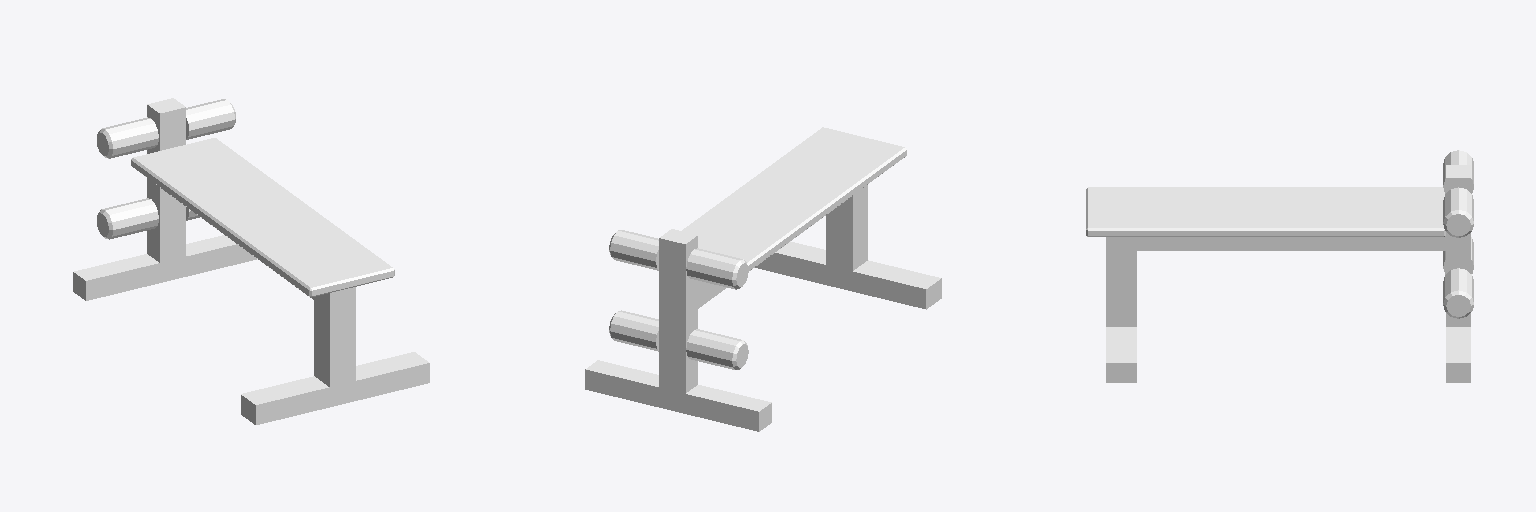
Rendered from bench2.obj.
3 renders of one model, left to right at view 1: azimuth 30°, elevation 25°; view 2: azimuth 150°, elevation 25°; view 3: azimuth 270°, elevation 25°, orthographic.
Parts seen in each view (by area): view 1: bench1.001; view 2: bench1.001; view 3: bench1.001.
Part boxes in pixels (bbox=[...]): bench1.001: bbox=[73, 98, 429, 424]; bench1.001: bbox=[585, 127, 941, 431]; bench1.001: bbox=[1086, 150, 1473, 382].
Bounding box in the file's own units: 98.98 × 92.22 × 192.